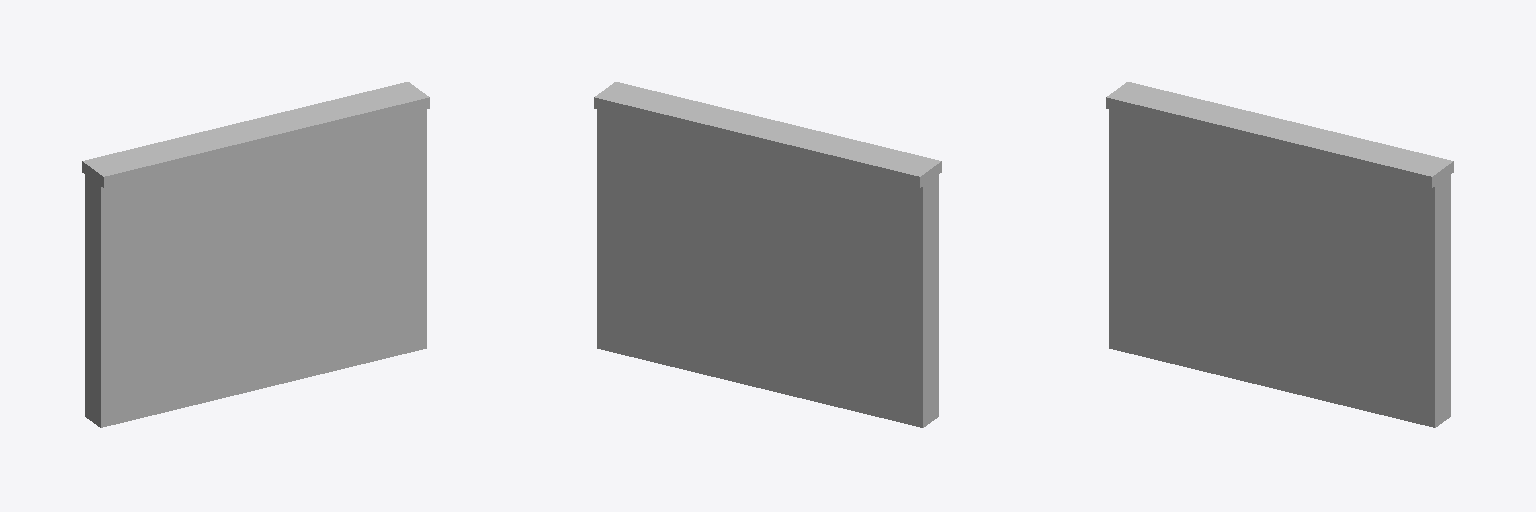
Rendered from Wall_Straigt.obj.
The picture shows the model from 3 angles: view 1: azimuth 30°, elevation 25°; view 2: azimuth 150°, elevation 25°; view 3: azimuth 330°, elevation 25°; orthographic projection.
Visible parts, largest first — view 1: Wall; view 2: Wall; view 3: Wall.
Boxes of the visible parts, box(x1,y1,x2,y2) form: Wall: box(82, 82, 429, 427); Wall: box(594, 82, 941, 427); Wall: box(1106, 82, 1453, 427).
Size of the model in its own units: 4.03 by 2.99 by 0.4622.